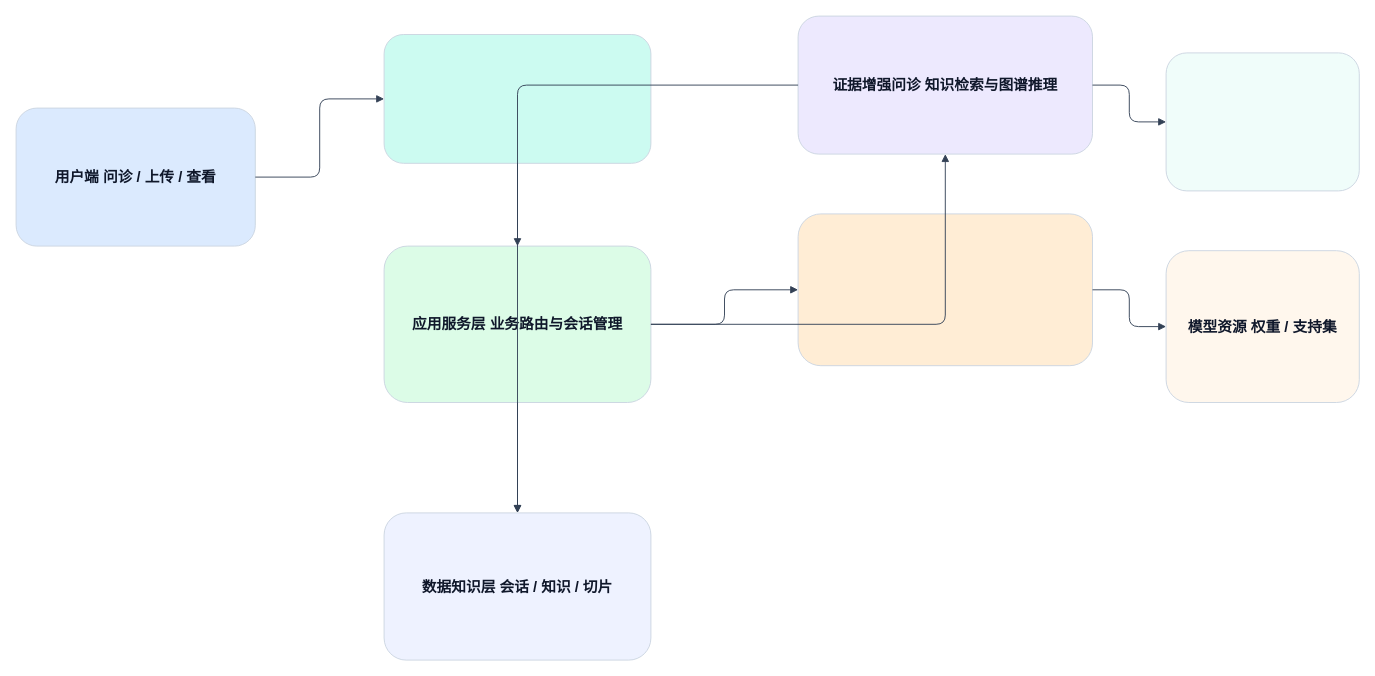
Some shapes in this 1375 by 676 pixel diagram are drawn without their labels. The shapes that lost their labels are listed below. From the top down, each one's centre as x and y in pixels, then its label:
At pixel 517 98: "前端交互层 页面展示与操作反馈".
At pixel 1262 121: "大模型接口 生成问诊回答".
At pixel 944 289: "图像智能识别 特征理解与类别判断".
